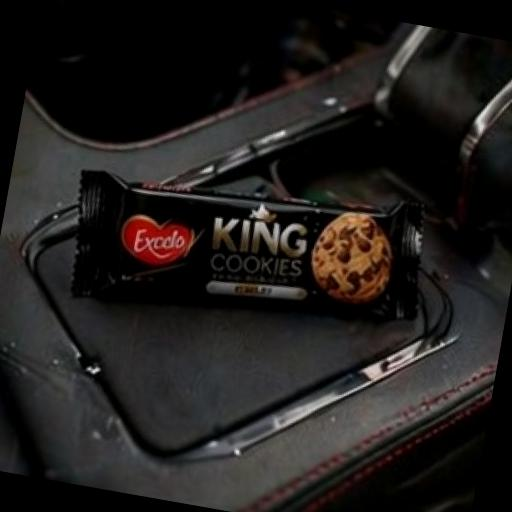king_cooking: (31, 94, 486, 396)
